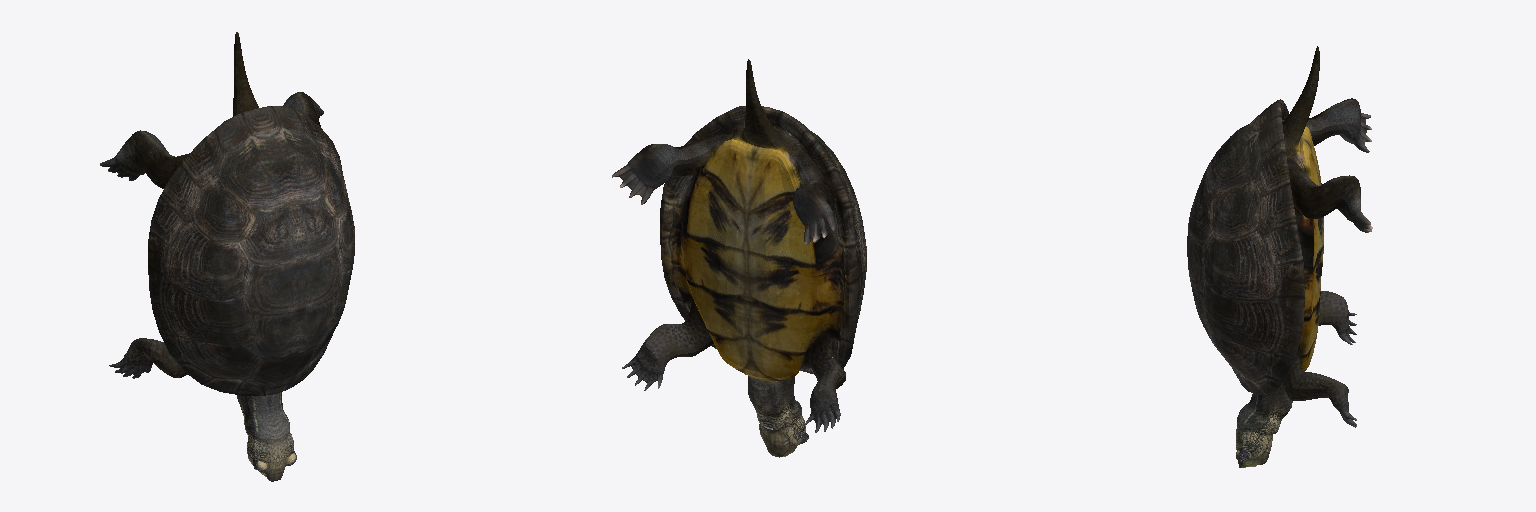
The picture shows the model from 3 angles: view 1: azimuth 30°, elevation 25°; view 2: azimuth 150°, elevation 25°; view 3: azimuth 270°, elevation 25°; orthographic projection.
Parts seen in each view (by area): view 1: 13102_pondturtle001; view 2: 13102_pondturtle001; view 3: 13102_pondturtle001.
Boxes of the visible parts, x1=… form: 13102_pondturtle001: x1=100, y1=32, x2=354, y2=481; 13102_pondturtle001: x1=612, y1=59, x2=866, y2=457; 13102_pondturtle001: x1=1187, y1=46, x2=1372, y2=467.
Size of the model in its own units: 10.44 by 18.86 by 7.53.
Materials: 1 (1 with a texture image).